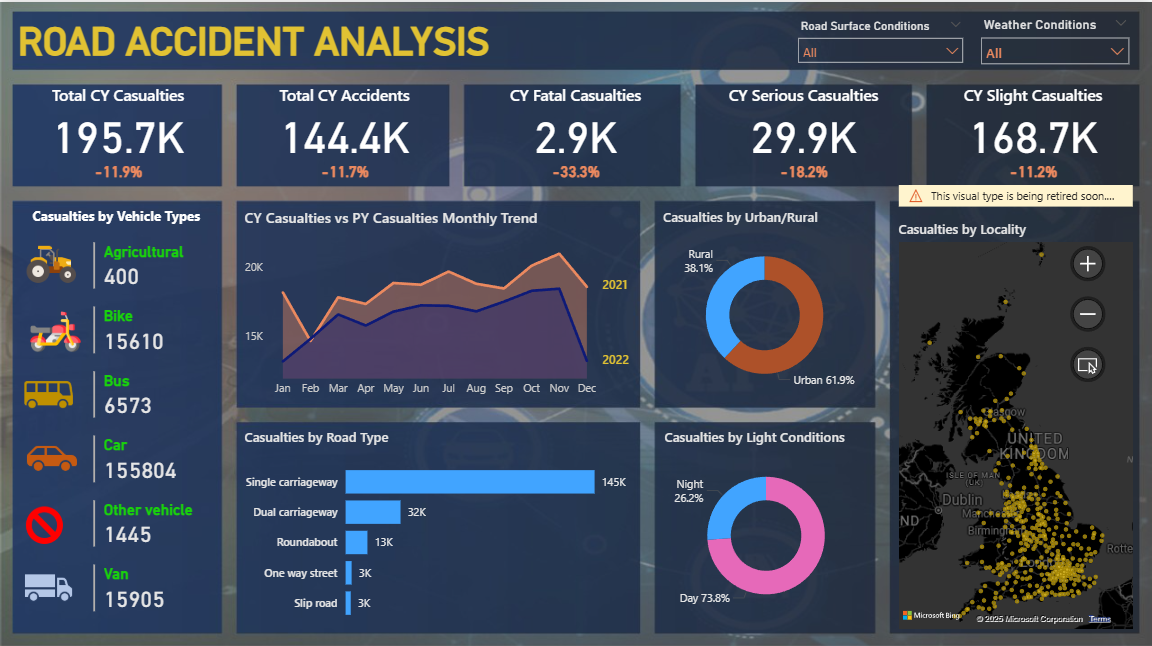

Layout of this report page (visuals, bound fields, positions):
{"tool":"powerbi","page":{"name":"Page 1","canvas":[1280,720],"ordinal":0},"visuals":[{"type":"group","id":"g1","title":"Group 1","box":[14.3,92.3,232.2,111.3],"z":0},{"type":"card","title":"Total CY Casualties","fields":{"Values":["Data.CY Casualties"]},"box":[14.3,92.3,232.2,82.7],"z":0,"group":"g1"},{"type":"card","title":"Total CY Accidents","fields":{"Values":["Data.CY Accidents"]},"box":[267.2,92.3,232.2,82.7],"z":0,"group":"g2"},{"type":"card","title":"CY Fatal Casualties","fields":{"Values":["Data.CY Casualties"]},"box":[523.3,92.3,232.2,82.7],"z":0,"group":"g3"},{"type":"card","title":"CY Serious Casualties","fields":{"Values":["Data.CY Casualties"]},"box":[776.2,92.3,232.2,82.7],"z":0,"group":"g4"},{"type":"card","title":"CY Slight Casualties","fields":{"Values":["Data.CY Casualties"]},"box":[1032.3,92.3,232.2,82.7],"z":0,"group":"g5"},{"type":"group","id":"g2","title":"Group 1","box":[267.2,92.3,232.2,111.3],"z":1000},{"type":"card","fields":{"Values":["Data.YOY Casualties"]},"box":[87.5,175,85.9,28.6],"z":1000,"group":"g1"},{"type":"card","fields":{"Values":["Data.YOY Accidents"]},"box":[340.4,175,85.9,28.6],"z":1000,"group":"g2"},{"type":"card","fields":{"Values":["Data.YOY Casualties"]},"box":[596.5,175,85.9,28.6],"z":1000,"group":"g3"},{"type":"card","fields":{"Values":["Data.YOY Casualties"]},"box":[849.4,175,85.9,28.6],"z":1000,"group":"g4"},{"type":"card","fields":{"Values":["Data.YOY Casualties"]},"box":[1105.5,175,85.9,28.6],"z":1000,"group":"g5"},{"type":"group","id":"g3","title":"Group 1","box":[523.3,92.3,232.2,111.3],"z":2000},{"type":"group","id":"g4","title":"Group 1","box":[776.2,92.3,232.2,111.3],"z":3000},{"type":"group","id":"g5","title":"Group 1","box":[1032.3,92.3,232.2,111.3],"z":4000},{"type":"textbox","box":[14.3,12.7,556.7,62],"z":5000},{"type":"multiRowCard","fields":{"Values":["Data.Vehicle_Type (groups)","Data.CY Casualties"]},"box":[98.6,262.5,147.9,458.1],"z":6000},{"type":"image","box":[14.3,262.5,84.3,58.9],"z":7000},{"type":"image","box":[25.4,338.8,73.2,55.7],"z":8000},{"type":"image","box":[0,407.2,108.2,58.9],"z":9000},{"type":"image","box":[0,555.1,98.6,52.5],"z":10000},{"type":"image","box":[6.4,477.2,101.8,60.4],"z":11000},{"type":"image","box":[0,621.9,108.2,57.3],"z":12000},{"type":"textbox","box":[27,221.1,205.2,41.4],"z":13000},{"type":"areaChart","title":"CY Casualties vs PY Casualties Monthly Trend","fields":{"Category":["Calendar.MONTH"],"Y":["Sum(Data.Number_of_Casualties)"],"Series":["Calendar.Date.Variation.Date Hierarchy.Year"]},"box":[267.1,228.6,440,218.6],"z":14000},{"type":"donutChart","title":"Casualties by Urban/Rural","fields":{"Category":["Data.Urban_or_Rural_Area"],"Y":["Data.CY Casualties"]},"box":[731.7,228.3,235,218.3],"z":15000},{"type":"donutChart","title":"Casualties by Light Conditions","fields":{"Category":["Data.Light_Conditions (groups)"],"Y":["Data.CY Casualties"]},"box":[733.3,473.3,235,218.3],"z":16000},{"type":"barChart","title":"Casualties by Road Type","fields":{"Category":["Data.Road_Type"],"Y":["Data.CY Casualties"]},"box":[266.7,473.3,440,226.7],"z":17000},{"type":"map","title":"Casualties by Locality","fields":{"Y":["Data.Latitude"],"X":["Data.Longitude"],"Category":["Data.Local_Authority_(District)"]},"box":[994.1,203.6,270.4,497.9],"z":17001},{"type":"slicer","fields":{"Values":["Data.Weather_Conditions (groups)"]},"box":[1080,11.1,184.5,63.6],"z":17002},{"type":"slicer","fields":{"Values":["Data.Road_Surface_Conditions (groups)"]},"box":[876.4,12.7,203.6,62],"z":17003}]}

Visuals, with their boxes in screenshot pixels (x1, y1, x2, y2), scaled from the page's 1280x720 canvas onto the 1152x646 screenshot:
"Group 1" group: region(13, 83, 222, 183)
"Total CY Casualties" card: region(13, 83, 222, 157)
"Total CY Accidents" card: region(240, 83, 449, 157)
"CY Fatal Casualties" card: region(471, 83, 680, 157)
"CY Serious Casualties" card: region(699, 83, 908, 157)
"CY Slight Casualties" card: region(929, 83, 1138, 157)
"Group 1" group: region(240, 83, 449, 183)
card - Data.YOY Casualties: region(79, 157, 156, 183)
card - Data.YOY Accidents: region(306, 157, 384, 183)
card - Data.YOY Casualties: region(537, 157, 614, 183)
card - Data.YOY Casualties: region(764, 157, 842, 183)
card - Data.YOY Casualties: region(995, 157, 1072, 183)
"Group 1" group: region(471, 83, 680, 183)
"Group 1" group: region(699, 83, 908, 183)
"Group 1" group: region(929, 83, 1138, 183)
textbox: region(13, 11, 514, 67)
multiRowCard - Data.Vehicle_Type (groups) x Data.CY Casualties: region(89, 236, 222, 645)
image: region(13, 236, 89, 288)
image: region(23, 304, 89, 354)
image: region(0, 365, 97, 418)
image: region(0, 498, 89, 545)
image: region(6, 428, 97, 482)
image: region(0, 558, 97, 609)
textbox: region(24, 198, 209, 236)
"CY Casualties vs PY Casualties Monthly Trend" areaChart: region(240, 205, 636, 401)
"Casualties by Urban/Rural" donutChart: region(659, 205, 870, 401)
"Casualties by Light Conditions" donutChart: region(660, 425, 871, 621)
"Casualties by Road Type" barChart: region(240, 425, 636, 628)
"Casualties by Locality" map: region(895, 183, 1138, 629)
slicer - Data.Weather_Conditions (groups): region(972, 10, 1138, 67)
slicer - Data.Road_Surface_Conditions (groups): region(789, 11, 972, 67)
